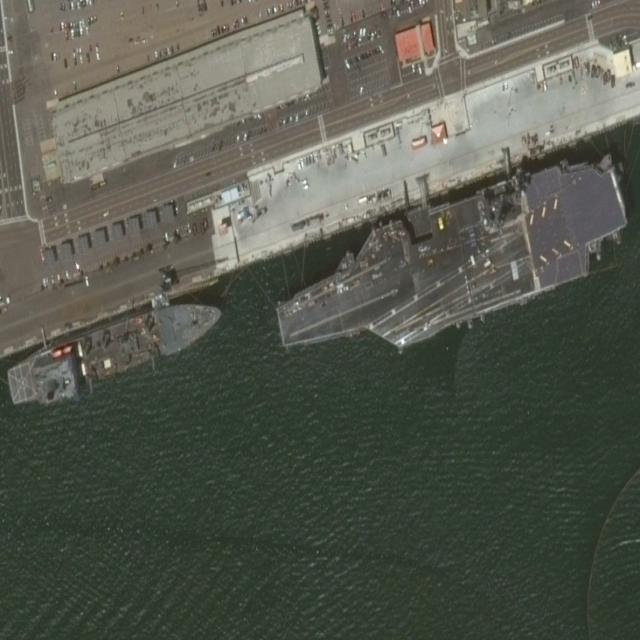Aircraft Carrier: (267, 136, 632, 392)
Other Ship: (3, 282, 228, 421)
